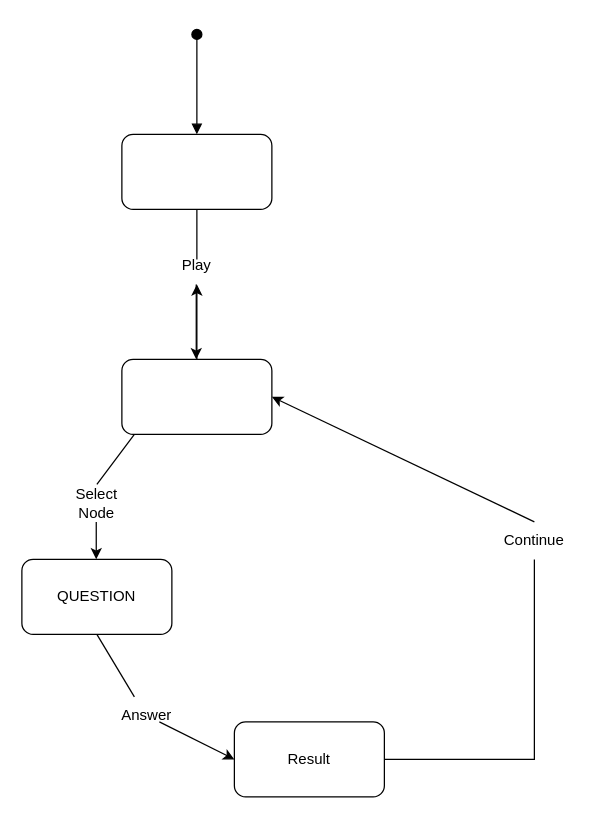
This 594x819 diagram has some shape labels left out. The centre of each missing label's shape, as x and y in pixels:
Home: (196,171)
MAP: (196,396)
